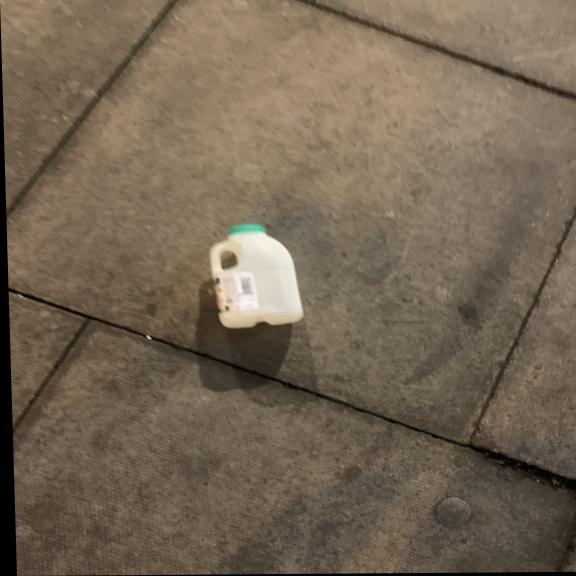Plastik: (202, 219, 311, 330)
